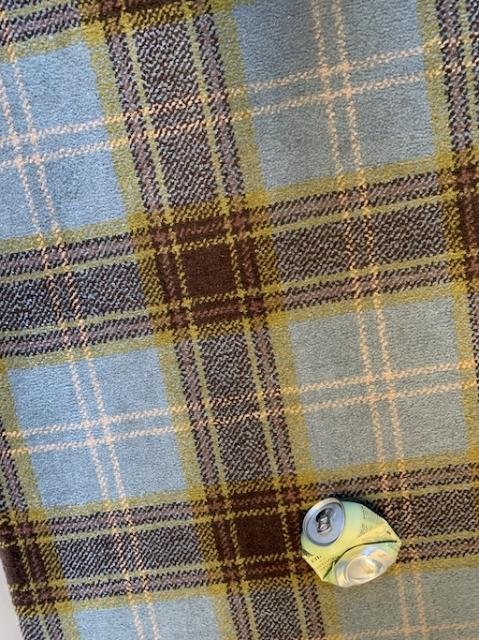metal: (301, 497, 400, 586)
